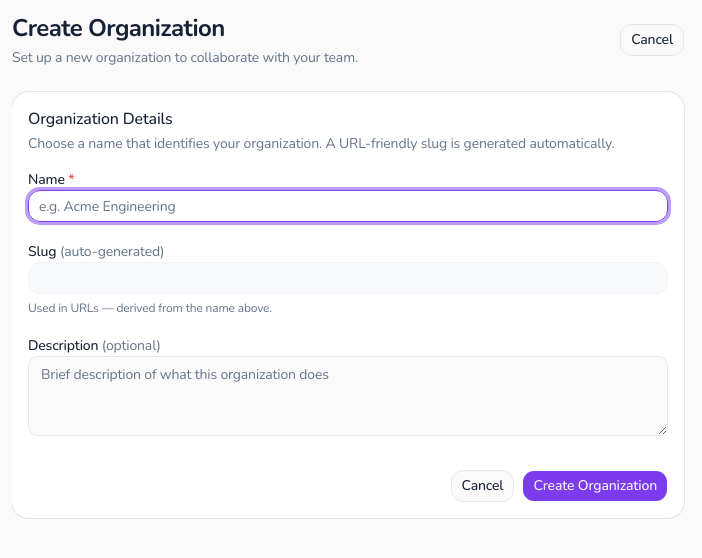
NewOrgClient › shows validation error when name is empty on submit
The width and height of the screenshot is (702, 558).
Click the button "Create Organization".
click(595, 486)  # box top-left (522, 470), bottom-right (668, 502)
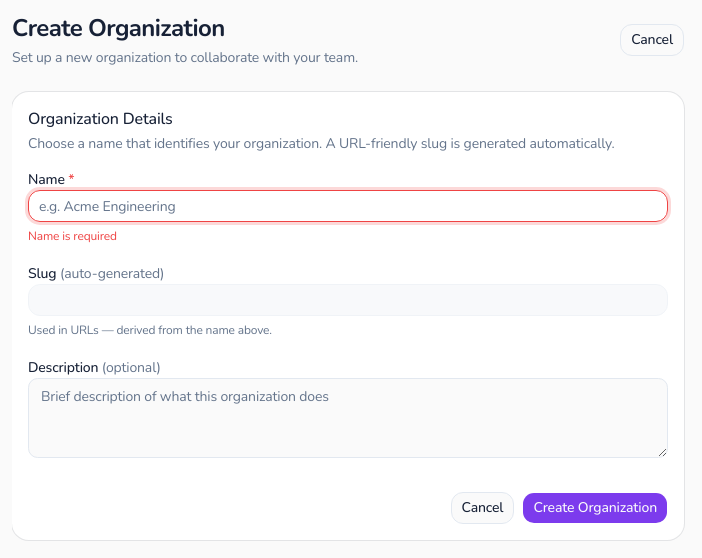
Check: the text "Name is required" is shown, box top-left (28, 228), bottom-right (117, 244)
